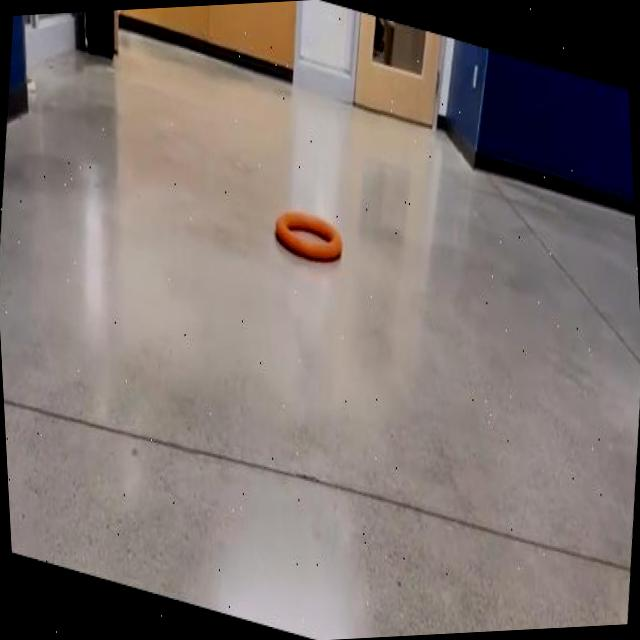note: (276, 210, 342, 260)
